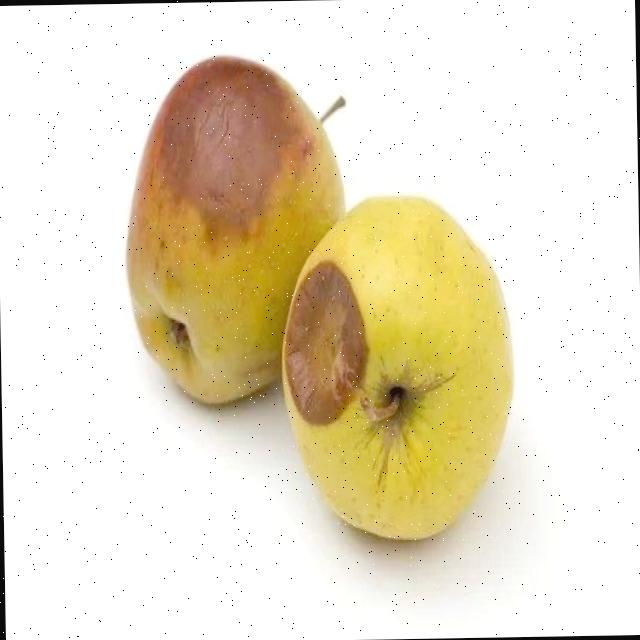rotten apple: (252, 161, 532, 579), (100, 22, 362, 434)
